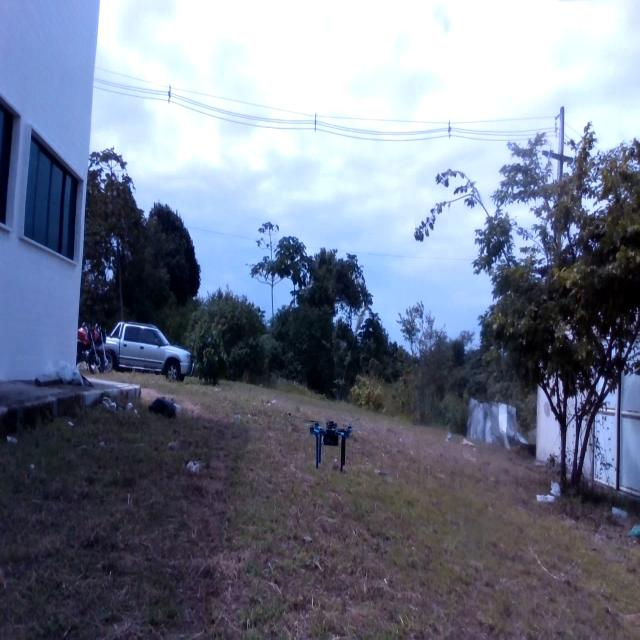-uav-: (306, 404, 354, 478)
